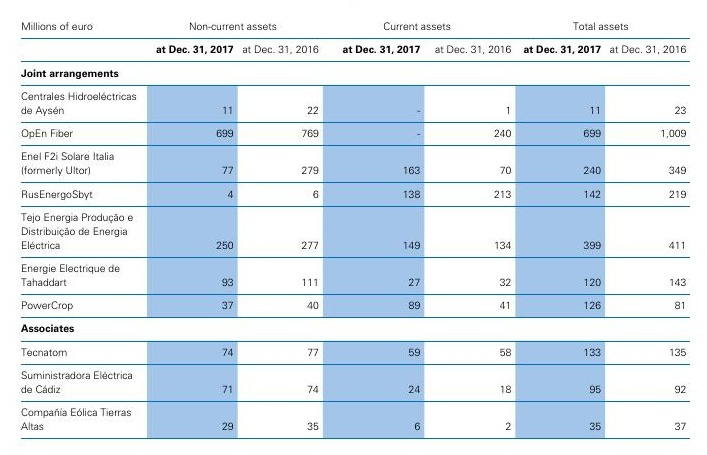table: (0, 0, 707, 455)
